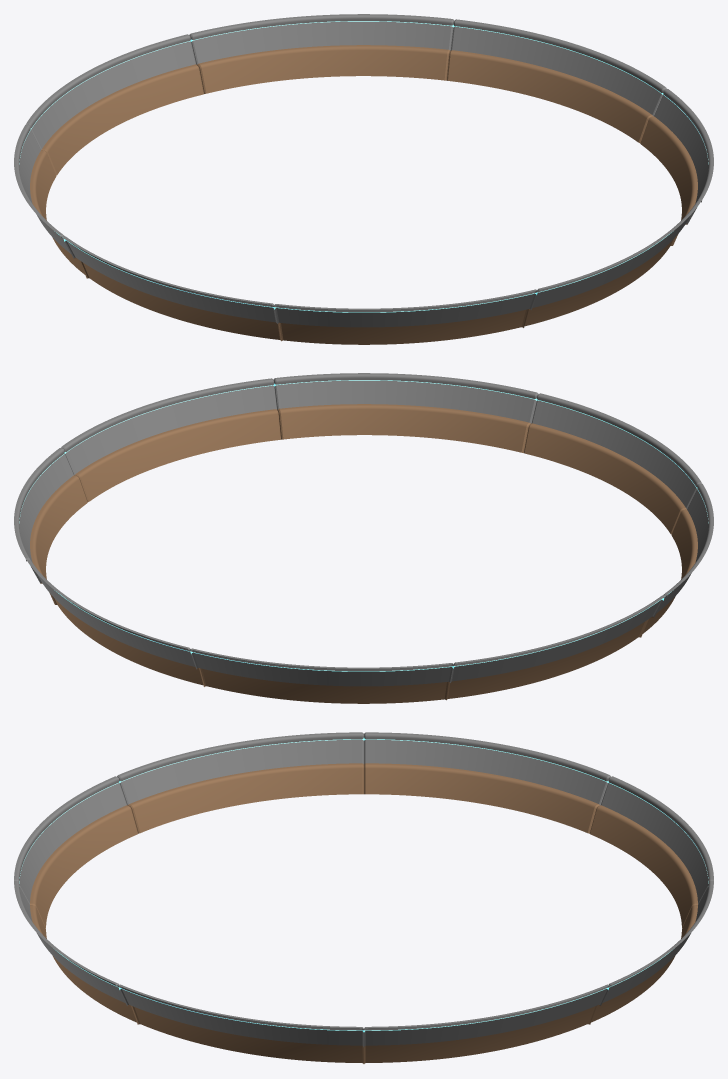
The model's file is scene_ring.FBX.
3 renders of one model, top to bottom at view 1: azimuth 30°, elevation 25°; view 2: azimuth 150°, elevation 25°; view 3: azimuth 270°, elevation 25°, orthographic.
Visible parts, largest first — view 1: Loft003; view 2: Loft003; view 3: Loft003.
Part boxes in pixels (box(x1,y1,x2,y2)): Loft003: box(14, 14, 713, 344); Loft003: box(14, 373, 713, 703); Loft003: box(14, 732, 713, 1063).
Size of the model in its own units: 1310 by 101 by 1310.
